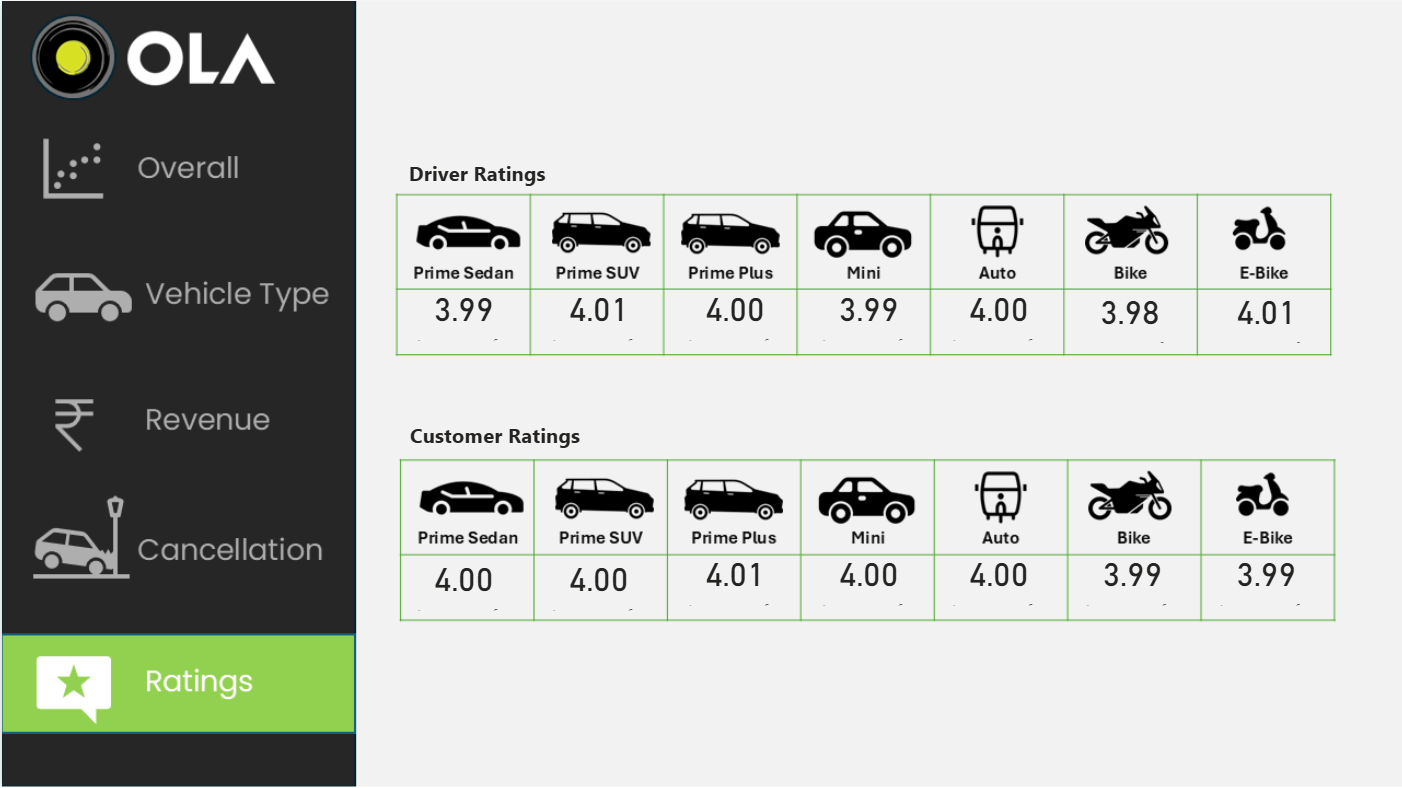

The page's visual inventory and layout, read from the dashboard file:
{"tool":"powerbi","page":{"name":"Ratings","canvas":[1280,720],"ordinal":4},"visuals":[{"type":"actionButton","box":[0,578.4,323.8,87.1],"z":0},{"type":"actionButton","box":[0,224.4,323.8,87.1],"z":1000},{"type":"actionButton","box":[0,338.3,323.8,87.1],"z":2000},{"type":"actionButton","box":[0,450,323.8,87.1],"z":3000},{"type":"actionButton","box":[0,446.4,323.8,96.4],"z":4000},{"type":"actionButton","box":[0,223.8,323.8,86.9],"z":5000},{"type":"actionButton","box":[0,113.1,323.8,86.9],"z":6000},{"type":"actionButton","box":[0,336.1,323.8,87.1],"z":7000},{"type":"actionButton","box":[0,445.2,323.8,96.4],"z":8000},{"type":"actionButton","box":[0,112.7,324.8,86.3],"z":9000},{"type":"card","fields":{"Values":["Avg(July.Driver_Ratings)"]},"box":[368.1,266.7,108.7,49.3],"z":10000},{"type":"card","fields":{"Values":["Avg(July.Driver_Ratings)"]},"box":[491.3,266.7,108.7,49.3],"z":11000},{"type":"card","fields":{"Values":["Avg(July.Driver_Ratings)"]},"box":[615.9,266.7,108.7,49.3],"z":12000},{"type":"card","fields":{"Values":["Avg(July.Driver_Ratings)"]},"box":[737.7,266.7,108.7,49.3],"z":13000},{"type":"card","fields":{"Values":["Avg(July.Driver_Ratings)"]},"box":[856.5,266.7,108.7,49.3],"z":14000},{"type":"card","fields":{"Values":["Avg(July.Driver_Ratings)"]},"box":[976.8,268.1,108.7,49.3],"z":15000},{"type":"card","fields":{"Values":["Avg(July.Driver_Ratings)"]},"box":[1101.4,268.1,108.7,49.3],"z":16000},{"type":"textbox","box":[368.1,47.8,149.3,37.7],"z":17000},{"type":"textbox","box":[366.7,139.1,150.7,36.2],"z":18000},{"type":"textbox","box":[368.1,379.7,231.9,43.5],"z":19000},{"type":"card","fields":{"Values":["Avg(July.Customer_Rating)"]},"box":[368.1,513,108.7,49.3],"z":20000},{"type":"card","fields":{"Values":["Avg(July.Customer_Rating)"]},"box":[615.9,508.7,108.7,49.3],"z":21000},{"type":"card","fields":{"Values":["Avg(July.Customer_Rating)"]},"box":[737.7,508.7,108.7,49.3],"z":22000},{"type":"card","fields":{"Values":["Avg(July.Customer_Rating)"]},"box":[856.5,508.7,108.7,49.3],"z":23000},{"type":"card","fields":{"Values":["Avg(July.Customer_Rating)"]},"box":[978.3,508.7,108.7,49.3],"z":24000},{"type":"card","fields":{"Values":["Avg(July.Customer_Rating)"]},"box":[491.3,513,108.7,49.3],"z":25000},{"type":"card","fields":{"Values":["Avg(July.Customer_Rating)"]},"box":[1101.4,508.7,108.7,49.3],"z":26000}]}

Visuals, with their boxes on the page's 1280x720 design canvas (x1, y1, x2, y2). These are canvas units, not pixel positions in the 1402x788 screenshot, which may show the page scaled, cropped or inside an application window:
actionButton: x1=0, y1=578, x2=324, y2=666
actionButton: x1=0, y1=224, x2=324, y2=312
actionButton: x1=0, y1=338, x2=324, y2=425
actionButton: x1=0, y1=450, x2=324, y2=537
actionButton: x1=0, y1=446, x2=324, y2=543
actionButton: x1=0, y1=224, x2=324, y2=311
actionButton: x1=0, y1=113, x2=324, y2=200
actionButton: x1=0, y1=336, x2=324, y2=423
actionButton: x1=0, y1=445, x2=324, y2=542
actionButton: x1=0, y1=113, x2=325, y2=199
card - Avg(July.Driver_Ratings): x1=368, y1=267, x2=477, y2=316
card - Avg(July.Driver_Ratings): x1=491, y1=267, x2=600, y2=316
card - Avg(July.Driver_Ratings): x1=616, y1=267, x2=725, y2=316
card - Avg(July.Driver_Ratings): x1=738, y1=267, x2=846, y2=316
card - Avg(July.Driver_Ratings): x1=856, y1=267, x2=965, y2=316
card - Avg(July.Driver_Ratings): x1=977, y1=268, x2=1086, y2=317
card - Avg(July.Driver_Ratings): x1=1101, y1=268, x2=1210, y2=317
textbox: x1=368, y1=48, x2=517, y2=86
textbox: x1=367, y1=139, x2=517, y2=175
textbox: x1=368, y1=380, x2=600, y2=423
card - Avg(July.Customer_Rating): x1=368, y1=513, x2=477, y2=562
card - Avg(July.Customer_Rating): x1=616, y1=509, x2=725, y2=558
card - Avg(July.Customer_Rating): x1=738, y1=509, x2=846, y2=558
card - Avg(July.Customer_Rating): x1=856, y1=509, x2=965, y2=558
card - Avg(July.Customer_Rating): x1=978, y1=509, x2=1087, y2=558
card - Avg(July.Customer_Rating): x1=491, y1=513, x2=600, y2=562
card - Avg(July.Customer_Rating): x1=1101, y1=509, x2=1210, y2=558
